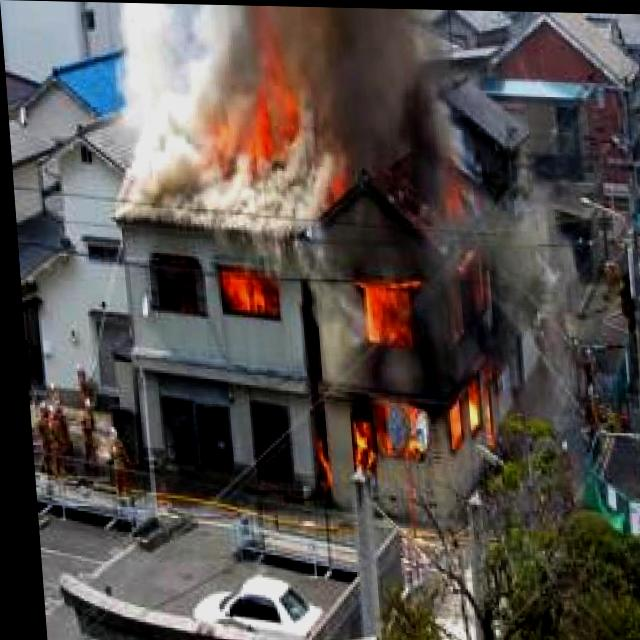helmet: (284, 177, 489, 506), (199, 61, 312, 169), (206, 267, 279, 325)
no_helmet: (115, 2, 432, 219)
